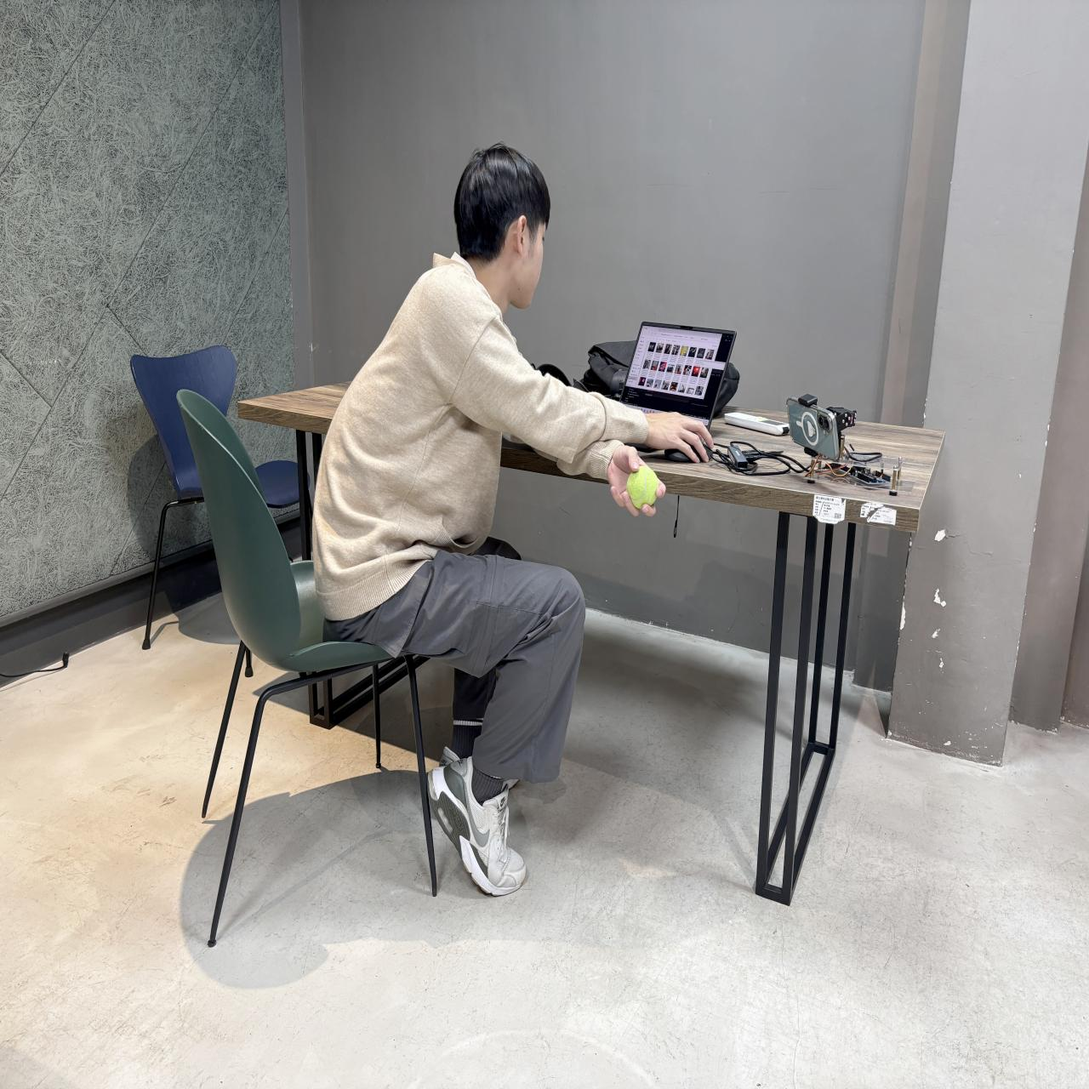tennisball: (627, 466, 659, 510)
